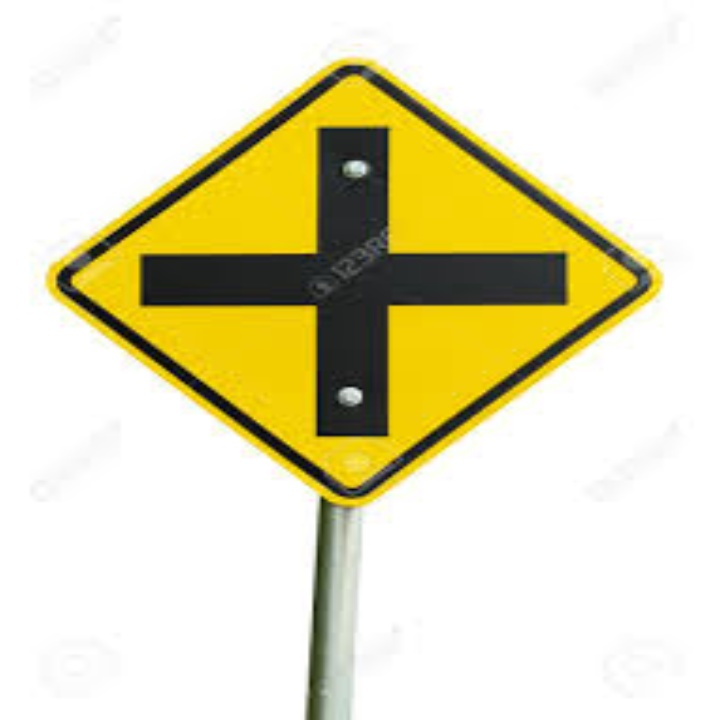inter: (132, 115, 572, 440)
